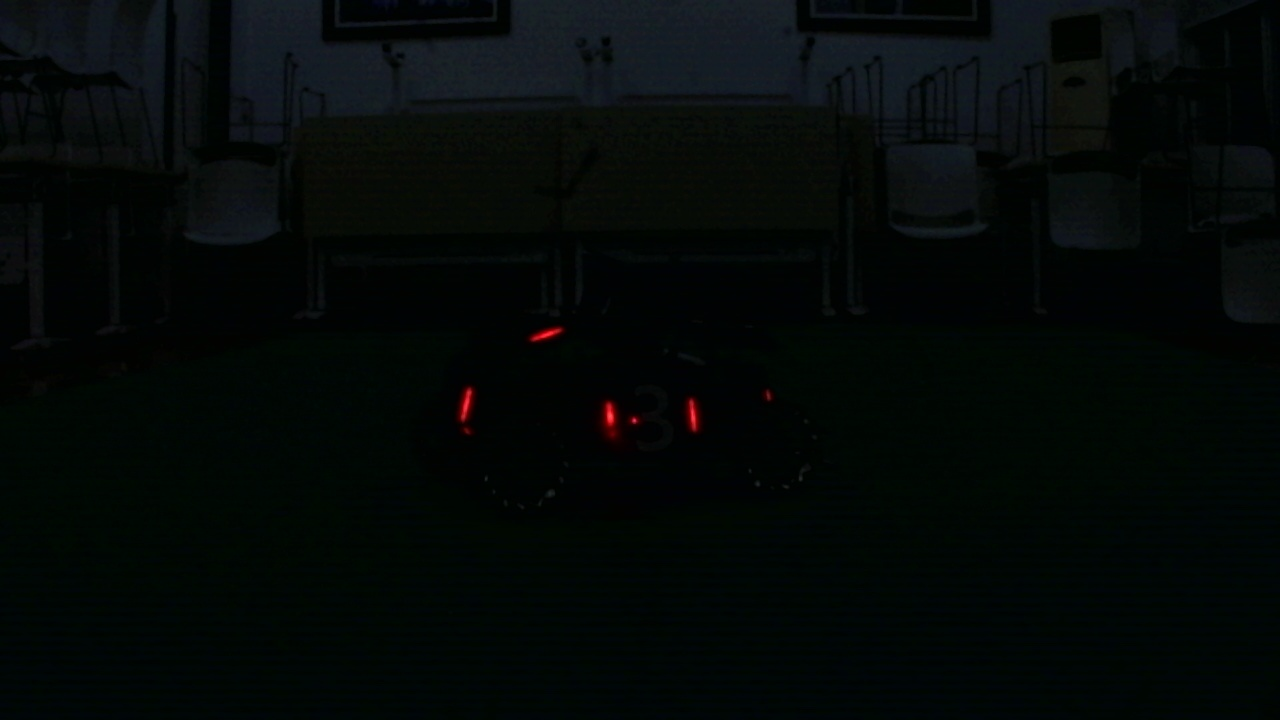lamp: (455, 383, 474, 425), (603, 397, 618, 433), (686, 398, 699, 435)
pair1: (604, 395, 699, 431)
